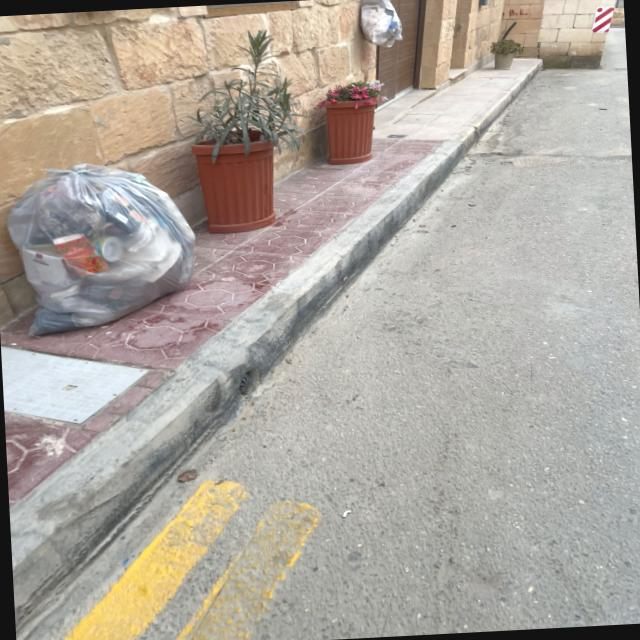grey_bag: (0, 154, 205, 340), (355, 0, 410, 51)
